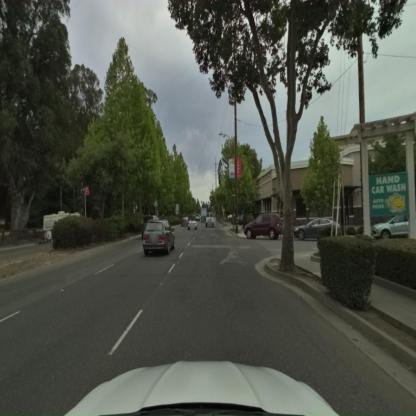car: (141, 220, 175, 256), (244, 213, 281, 240), (372, 213, 410, 239), (294, 217, 334, 241), (188, 220, 198, 230)
